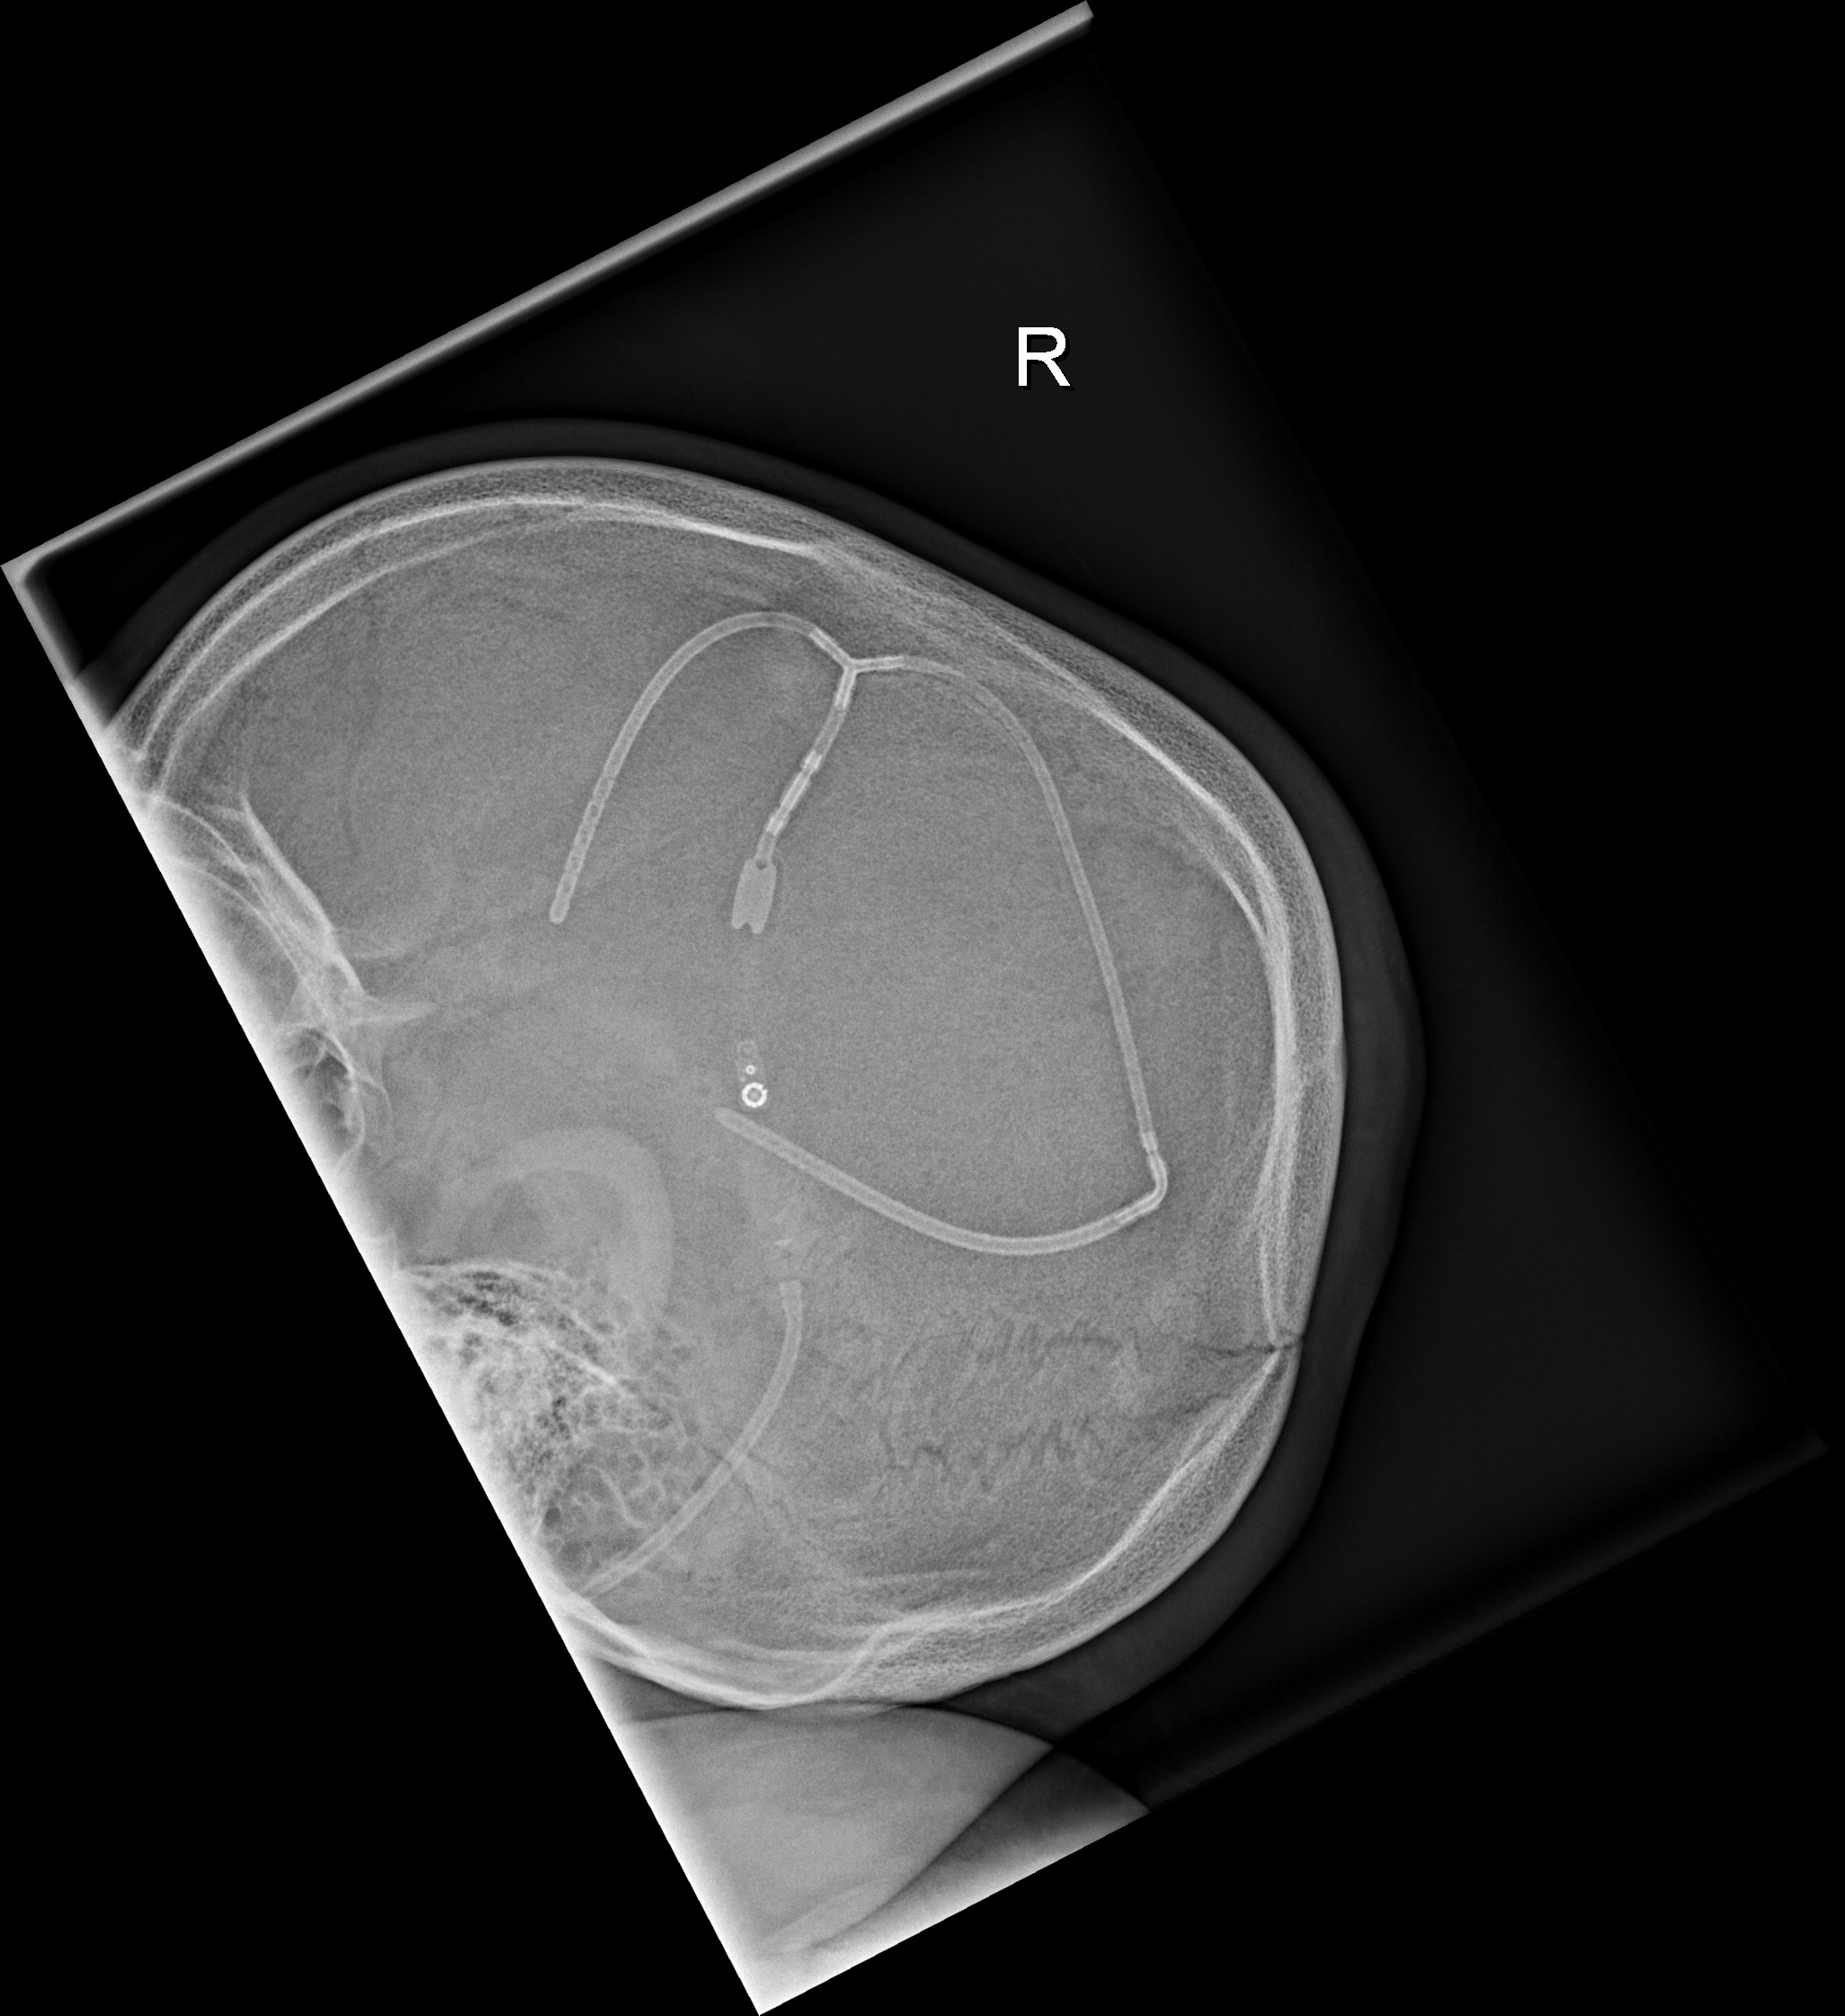Codman Hakim: (716, 1029, 786, 1126)
